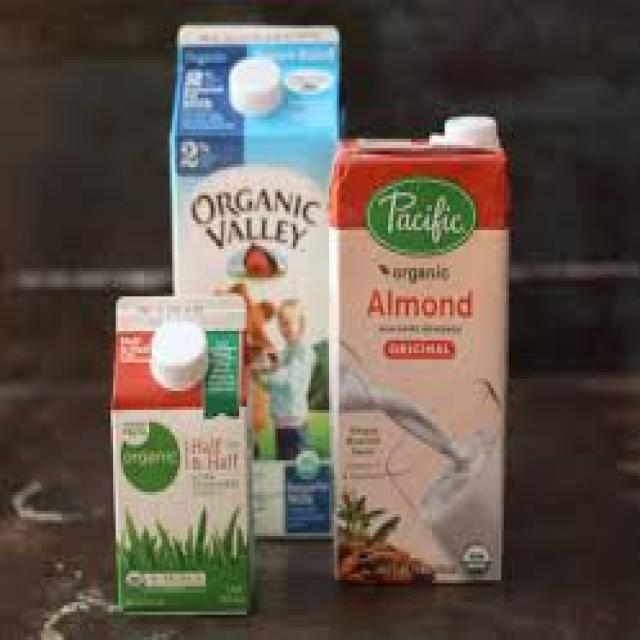cardboard: (169, 27, 336, 557), (328, 110, 512, 591), (108, 287, 262, 619)
